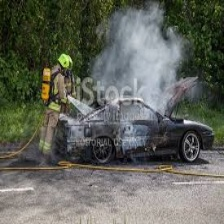smoke: (105, 37, 174, 102)
